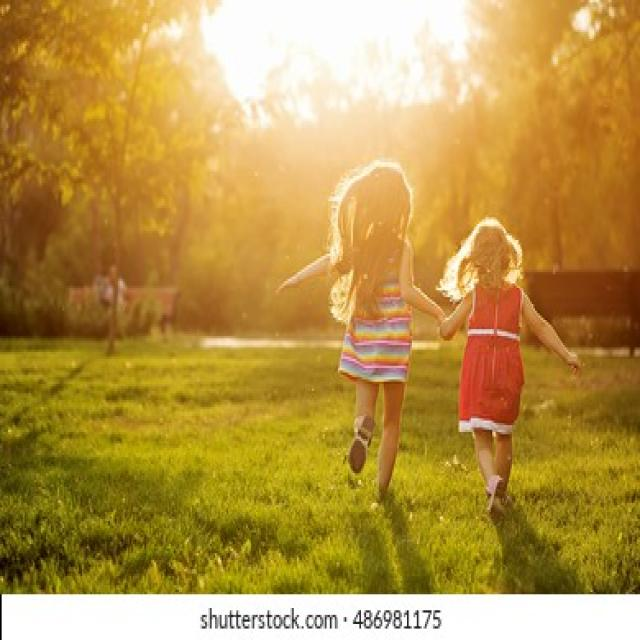running: (276, 161, 446, 503), (443, 217, 586, 513)
